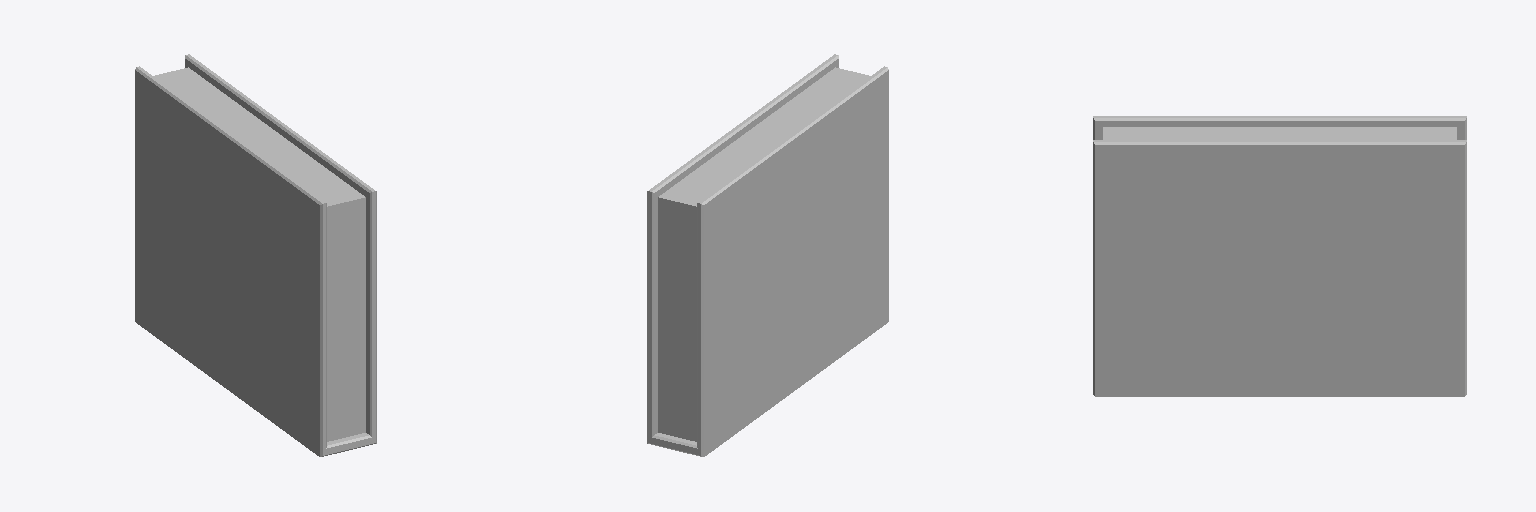
File: Book.obj
The picture shows the model from 3 angles: view 1: azimuth 30°, elevation 25°; view 2: azimuth 150°, elevation 25°; view 3: azimuth 270°, elevation 25°; orthographic projection.
Parts seen in each view (by area): view 1: Book; view 2: Book; view 3: Book.
Part boxes in pixels (left/top/right/bottom): Book: left=135, top=54, right=376, bottom=456; Book: left=647, top=54, right=888, bottom=456; Book: left=1093, top=116, right=1466, bottom=396.
Bounding box in the file's own units: 0.875 × 3.75 × 5.